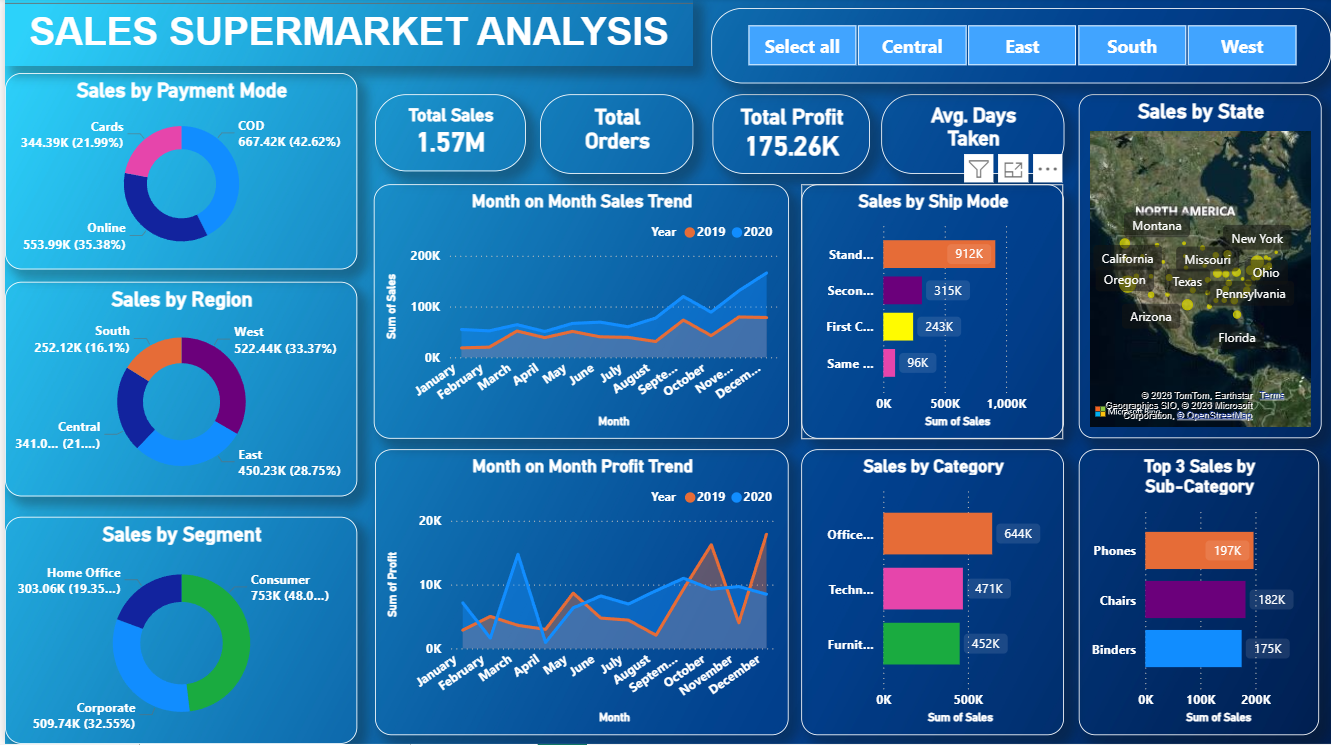

What the dashboard file says about the page in this screenshot:
{"tool":"powerbi","page":{"name":"SALES SUPERMARKET ANALYSIS","canvas":[1280,720],"ordinal":0},"visuals":[{"type":"textbox","box":[0,0,664.2,65.9],"z":0},{"type":"card","title":"Total Sales","fields":{"Values":["Sum(Sales_Dataset_proj2.Sales)"]},"box":[356.8,93.3,145.5,74.1],"z":1000},{"type":"card","title":"Total Orders ","fields":{"Values":["Count(Sales_Dataset_proj2.Order ID)"]},"box":[516,93.3,148.2,76.8],"z":2000},{"type":"card","title":"Total Profit","fields":{"Values":["Sum(Sales_Dataset_proj2.Profit)"]},"box":[683.4,93.3,152.3,76.8],"z":3000},{"type":"card","title":"Avg. Days Taken ","fields":{"Values":["Avg(Sales_Dataset_proj2.Days Taken)"]},"box":[845.3,93.3,177,76.8],"z":4000},{"type":"donutChart","title":"Sales by Payment Mode","fields":{"Category":["Sales_Dataset_proj2.Payment Mode"],"Y":["Sum(Sales_Dataset_proj2.Sales)"]},"box":[0,72.7,340.3,189.4],"z":5000},{"type":"donutChart","title":"Sales by Region","fields":{"Category":["Sales_Dataset_proj2.Region"],"Y":["Sum(Sales_Dataset_proj2.Sales)"]},"box":[0,274.4,340.3,207.2],"z":6000},{"type":"donutChart","title":"Sales by Segment","fields":{"Category":["Sales_Dataset_proj2.Segment"],"Y":["Sum(Sales_Dataset_proj2.Sales)"]},"box":[0,500.9,340.3,219.6],"z":7000},{"type":"areaChart","title":"Month on Month Sales Trend","fields":{"Category":["Sales_Dataset_proj2.Order Date Clean.Variation.Date Hierarchy.Month"],"Y":["Sum(Sales_Dataset_proj2.Sales)"],"Series":["Sales_Dataset_proj2.Order Date Clean.Variation.Date Hierarchy.Year"]},"box":[355.4,179.8,400.7,245.6],"z":8000},{"type":"areaChart","title":"Month on Month Profit Trend","fields":{"Category":["Sales_Dataset_proj2.Order Date Clean.Variation.Date Hierarchy.Month"],"Y":["Sum(Sales_Dataset_proj2.Profit)"],"Series":["Sales_Dataset_proj2.Order Date Clean.Variation.Date Hierarchy.Year"]},"box":[356.8,435,399.3,275.8],"z":9000},{"type":"barChart","title":"Sales by Ship Mode","fields":{"Y":["Sum(Sales_Dataset_proj2.Sales)"],"Category":["Sales_Dataset_proj2.Ship Mode"]},"box":[768.4,179.8,253.9,245.6],"z":9001},{"type":"barChart","title":"Sales by Category","fields":{"Y":["Sum(Sales_Dataset_proj2.Sales)"],"Category":["Sales_Dataset_proj2.Category"]},"box":[768.4,435,253.9,275.8],"z":9002},{"type":"map","title":"Sales by State","fields":{"Size":["Sum(Sales_Dataset_proj2.Sales)"],"Category":["Sales_Dataset_proj2.State"]},"box":[1036,93.3,234.6,332.1],"z":9003},{"type":"barChart","title":"Top 3 Sales by Sub-Category","fields":{"Y":["Sum(Sales_Dataset_proj2.Sales)"],"Category":["Sales_Dataset_proj2.Sub-Category"]},"box":[1036,435,231.9,275.8],"z":9004},{"type":"slicer","fields":{"Values":["Sales_Dataset_proj2.Region"]},"box":[682,9.6,598.3,72.7],"z":9005}]}

Visuals, with their boxes in screenshot pixels (x1, y1, x2, y2), scaled from the page's 1280x720 canvas onto the 1331x745 screenshot:
textbox: 0/0/691/68
"Total Sales" card: 371/97/522/173
"Total Orders " card: 537/97/691/176
"Total Profit" card: 711/97/869/176
"Avg. Days Taken " card: 879/97/1063/176
"Sales by Payment Mode" donutChart: 0/75/354/271
"Sales by Region" donutChart: 0/284/354/498
"Sales by Segment" donutChart: 0/518/354/744
"Month on Month Sales Trend" areaChart: 370/186/786/440
"Month on Month Profit Trend" areaChart: 371/450/786/735
"Sales by Ship Mode" barChart: 799/186/1063/440
"Sales by Category" barChart: 799/450/1063/735
"Sales by State" map: 1077/97/1321/440
"Top 3 Sales by Sub-Category" barChart: 1077/450/1318/735
slicer - Sales_Dataset_proj2.Region: 709/10/1330/85
